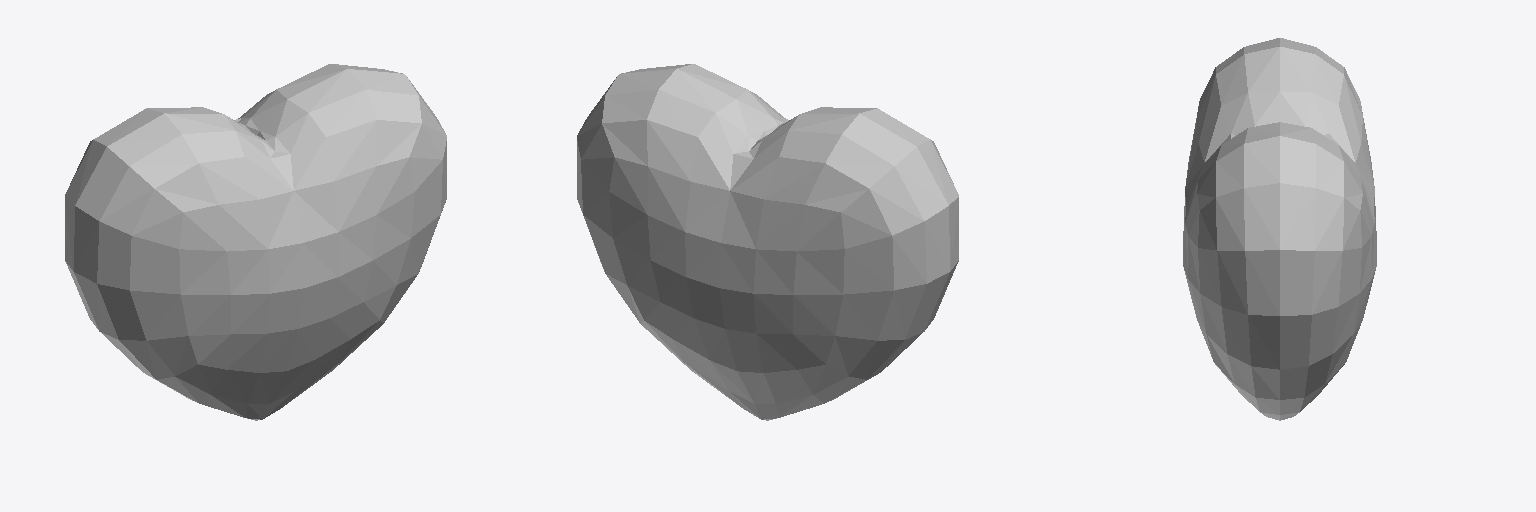
Rendered from heart.obj.
3 views of the same model, side by side, from view 1: azimuth 30°, elevation 25°; view 2: azimuth 150°, elevation 25°; view 3: azimuth 270°, elevation 25° (orthographic).
Parts seen in each view (by area): view 1: 000_Vert; view 2: 000_Vert; view 3: 000_Vert.
Boxes of the visible parts, x1,y1,x2,y2 form: 000_Vert: [65, 64, 446, 420]; 000_Vert: [577, 64, 958, 420]; 000_Vert: [1183, 38, 1376, 420].
Size of the model in its own units: 63.17 by 54.62 by 29.18.